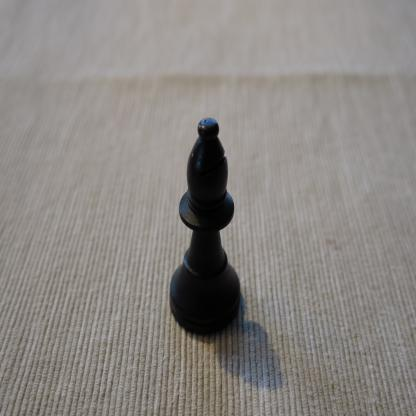black-bishop: (169, 116, 241, 337)
